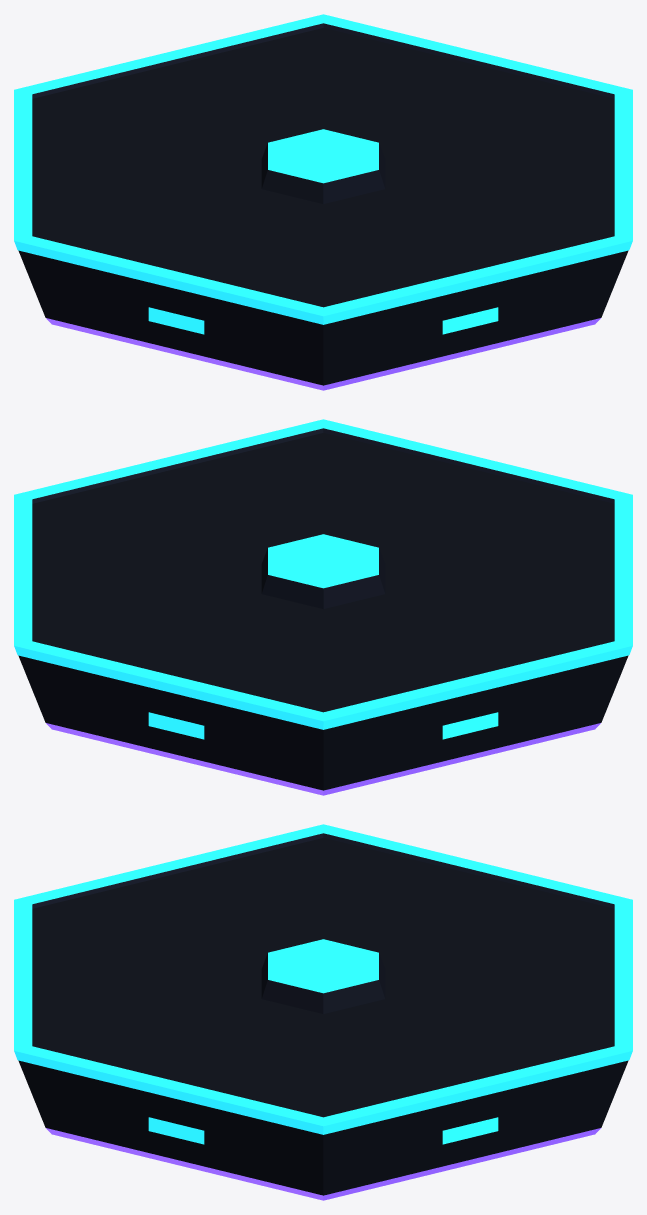
File: cluster_node.glb
3 views of the same model, one above another, from view 1: azimuth 30°, elevation 25°; view 2: azimuth 150°, elevation 25°; view 3: azimuth 270°, elevation 25° (orthographic).
Parts seen in each view (by area): view 1: ClusterNode_Body, ClusterNode_Rim, ClusterNode_Core, ClusterNode_BaseGlow, ClusterNode_Connectors; view 2: ClusterNode_Body, ClusterNode_Rim, ClusterNode_Core, ClusterNode_BaseGlow, ClusterNode_Connectors; view 3: ClusterNode_Body, ClusterNode_Rim, ClusterNode_Core, ClusterNode_BaseGlow, ClusterNode_Connectors.
Boxes of the visible parts, x1=… form: ClusterNode_Body: x1=18, y1=23, x2=628, y2=385; ClusterNode_Rim: x1=14, y1=14, x2=632, y2=324; ClusterNode_Core: x1=261, y1=129, x2=385, y2=203; ClusterNode_BaseGlow: x1=46, y1=318, x2=600, y2=390; ClusterNode_Connectors: x1=148, y1=307, x2=498, y2=334; ClusterNode_Body: x1=18, y1=428, x2=628, y2=790; ClusterNode_Rim: x1=14, y1=419, x2=632, y2=729; ClusterNode_Core: x1=261, y1=534, x2=385, y2=608; ClusterNode_BaseGlow: x1=46, y1=723, x2=600, y2=795; ClusterNode_Connectors: x1=148, y1=712, x2=498, y2=739; ClusterNode_Body: x1=18, y1=833, x2=628, y2=1195; ClusterNode_Rim: x1=14, y1=824, x2=632, y2=1134; ClusterNode_Core: x1=261, y1=939, x2=385, y2=1013; ClusterNode_BaseGlow: x1=46, y1=1128, x2=600, y2=1200; ClusterNode_Connectors: x1=148, y1=1117, x2=498, y2=1144.
Size of the model in its own units: 2 by 0.315 by 1.74.
